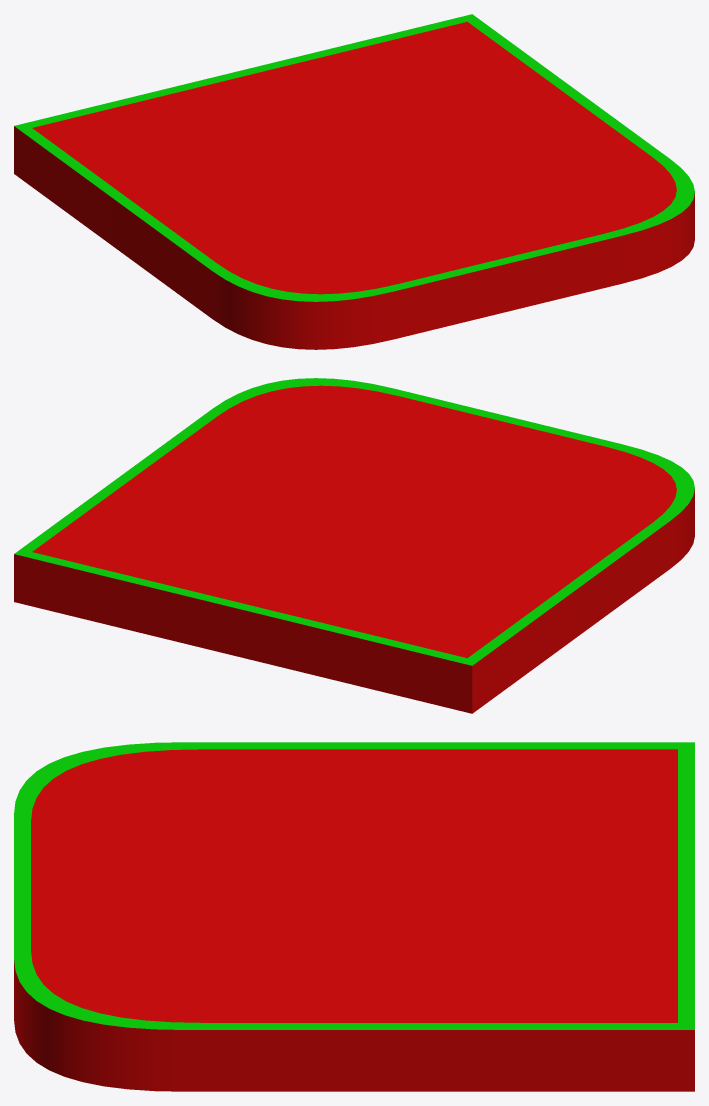
File: Grid_Corner2.fbx
3 renders of one model, top to bottom at view 1: azimuth 30°, elevation 25°; view 2: azimuth 150°, elevation 25°; view 3: azimuth 270°, elevation 25°, orthographic. The views are drawn at different scales.
Parts seen in each view (by area): view 1: Grid_Corner2; view 2: Grid_Corner2; view 3: Grid_Corner2.
Part boxes in pixels (x1=…): Grid_Corner2: x1=14, y1=14, x2=694, y2=349; Grid_Corner2: x1=14, y1=378, x2=694, y2=713; Grid_Corner2: x1=14, y1=742, x2=694, y2=1091.
Size of the model in its own units: 100 by 10 by 100.
